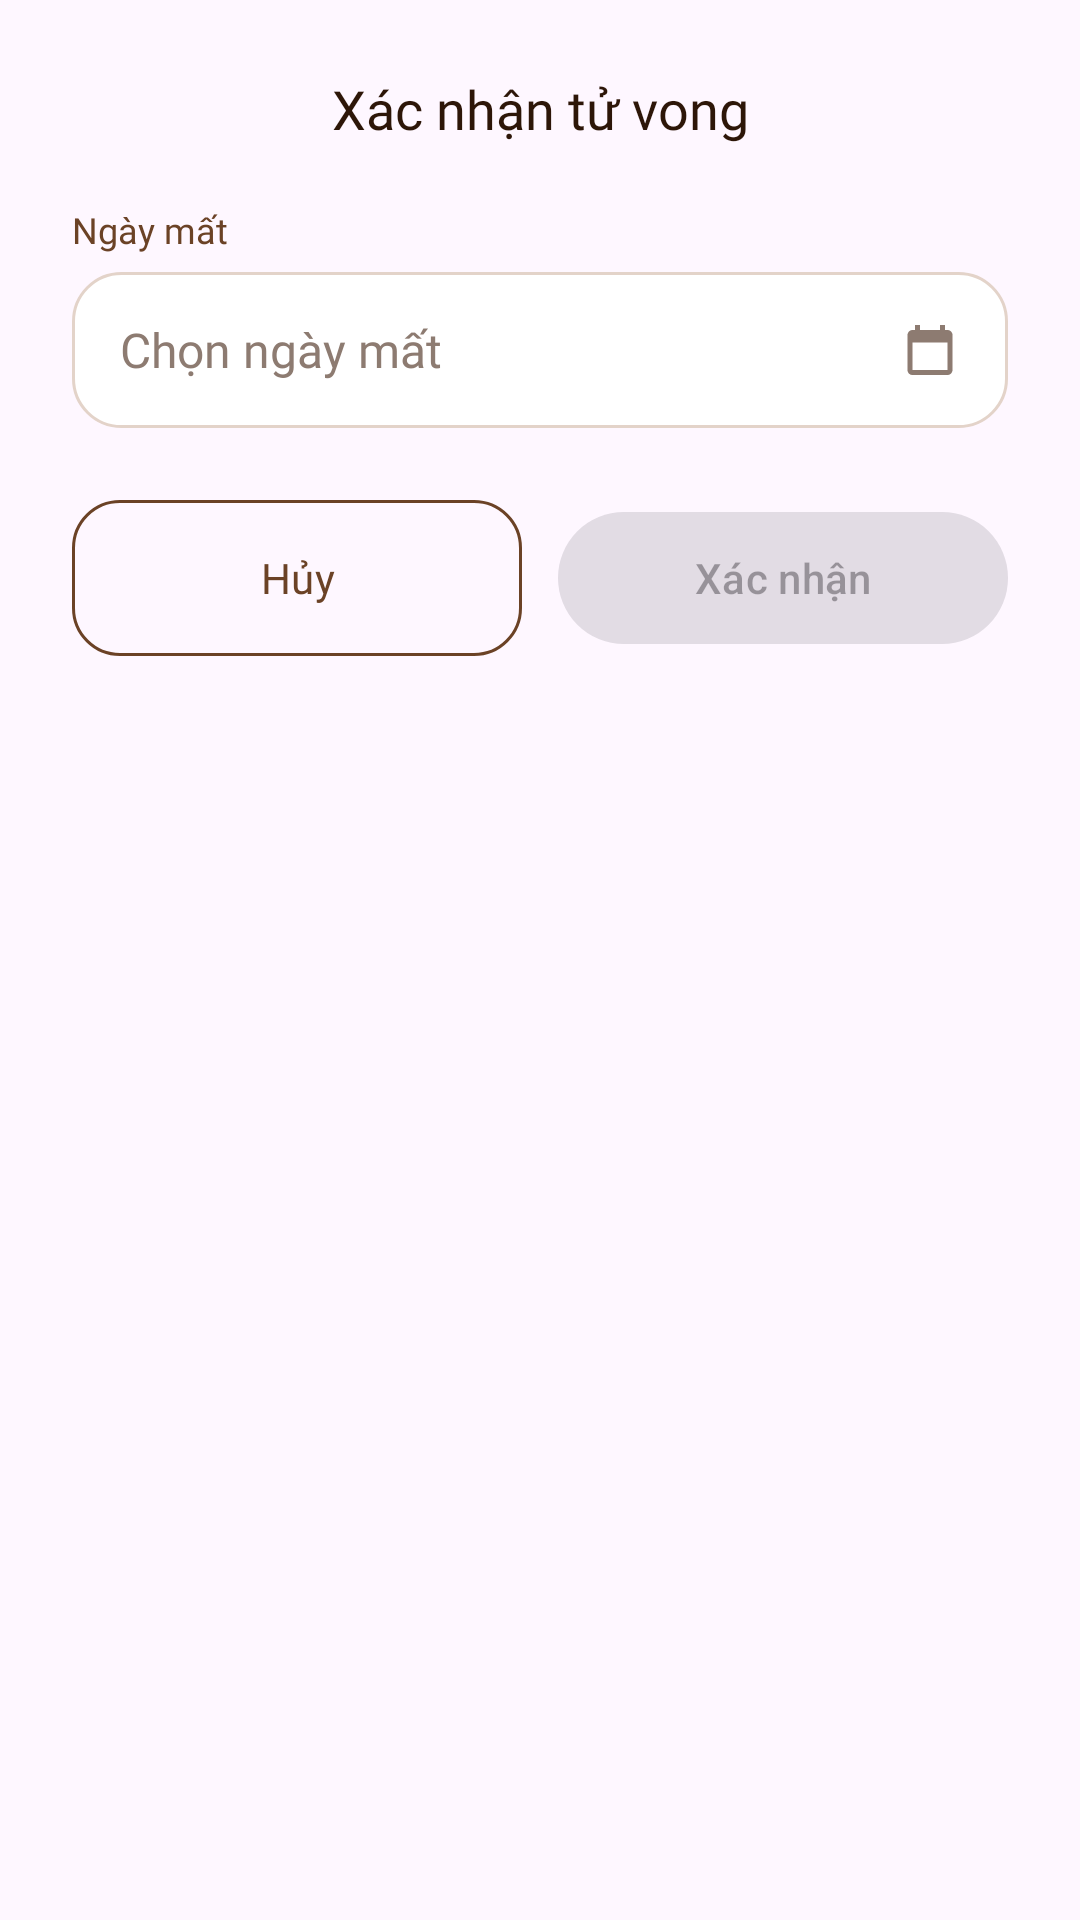

Where to tap for icons on this 1080×1920 app screen, as (x=x, y=y):
calendar: (x=930, y=350)
